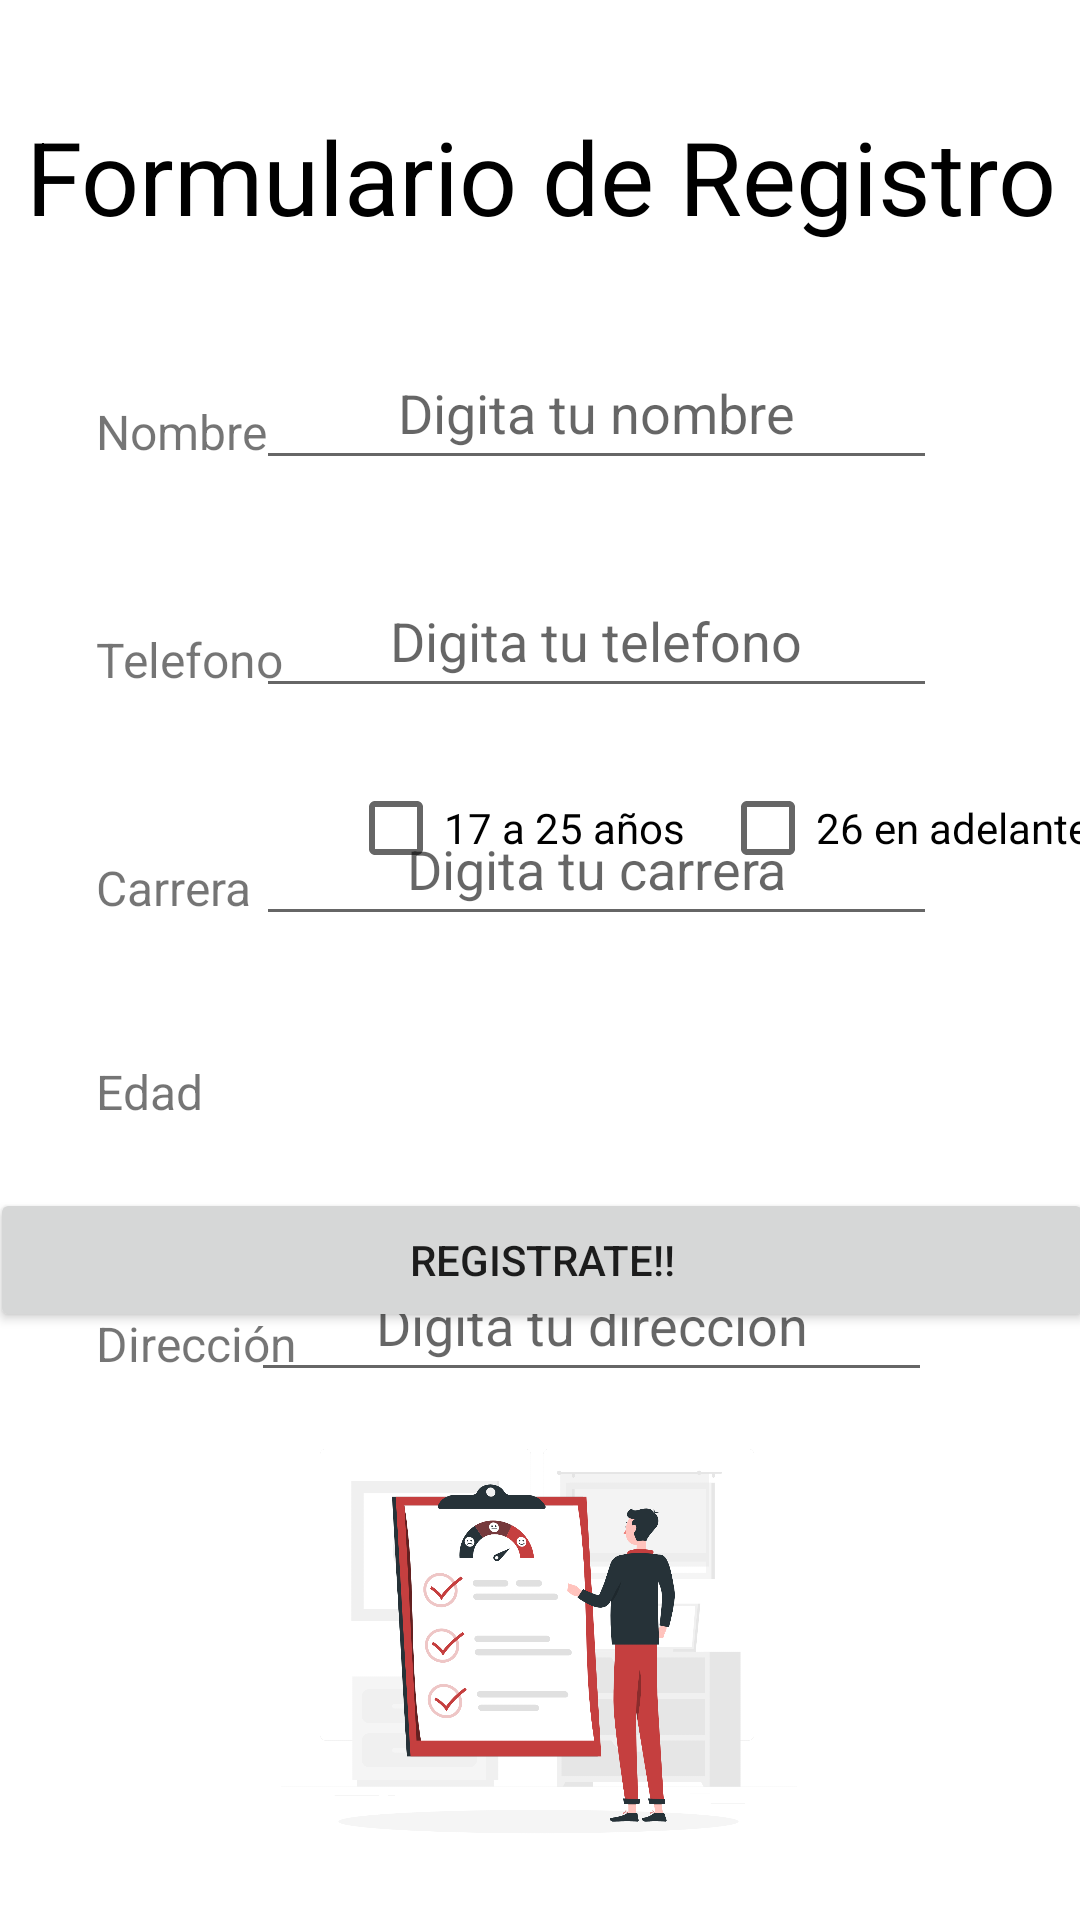

Icon bounding boxes for this 1080×1920 phone screenshot, format [x1,y1,x2,y2]:
form: [392,1471,740,1822]
